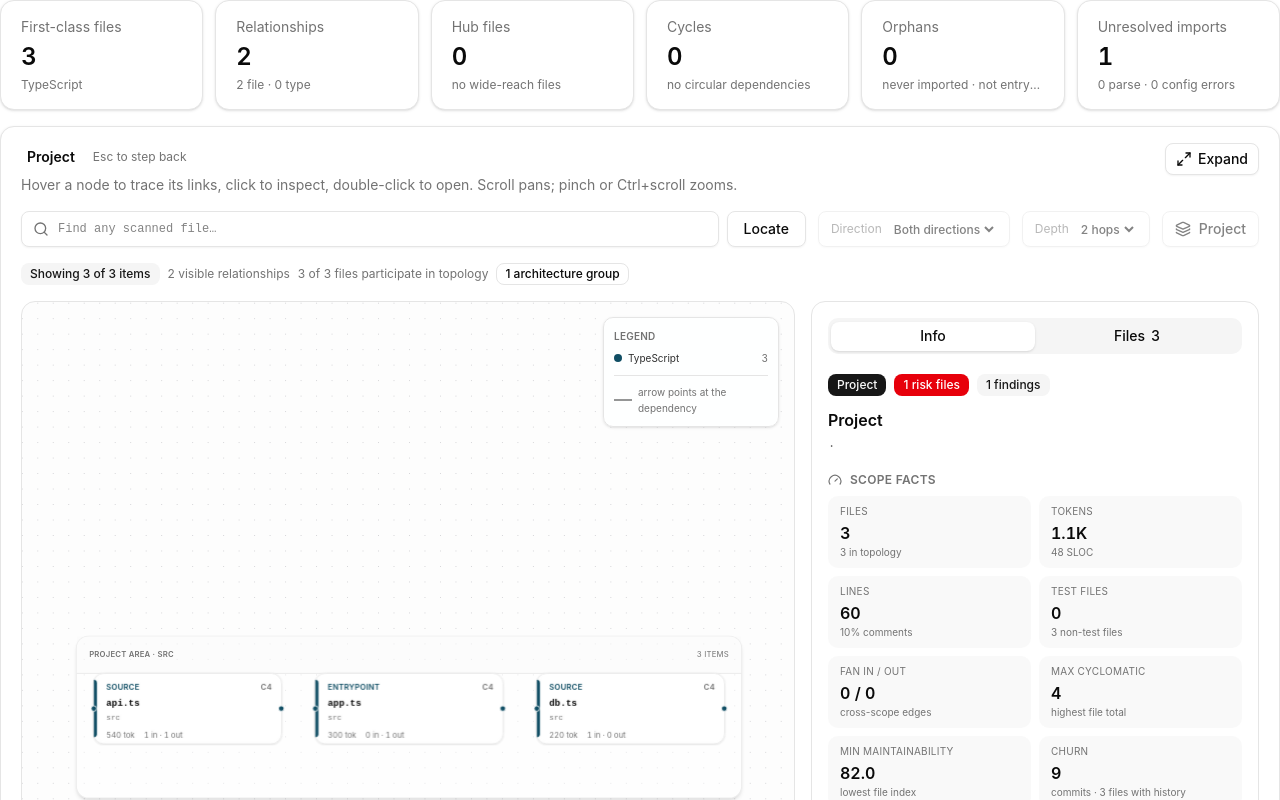
Test: RepositoryGraph › expands inside the app and turns a selected file into an actionable inspection
The image size is (1280, 800).
Type "api" into the dropdown named "Find a file in the repository graph" at (370,229), box [21,211,718,247]
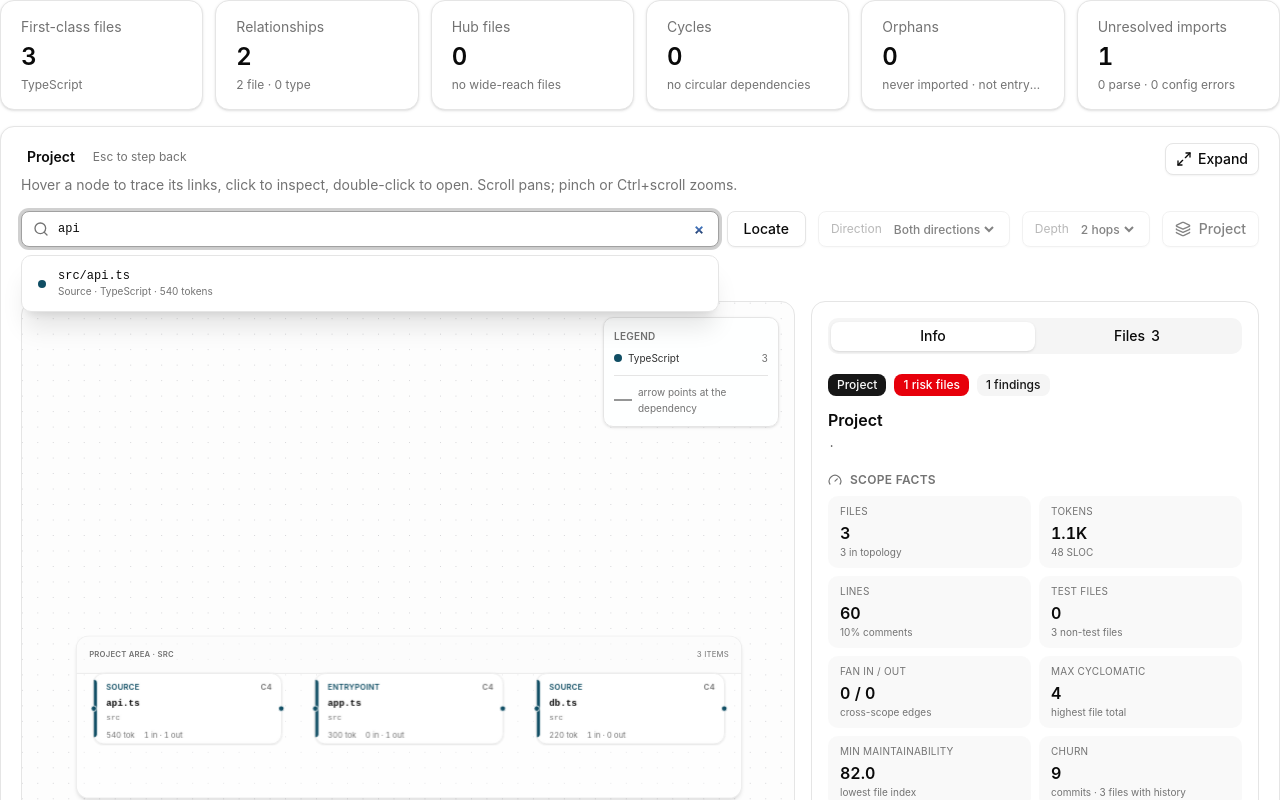
Click the option "src/api.ts Source · TypeScript · 540 tokens" at (94,276), box [26,260,714,307]
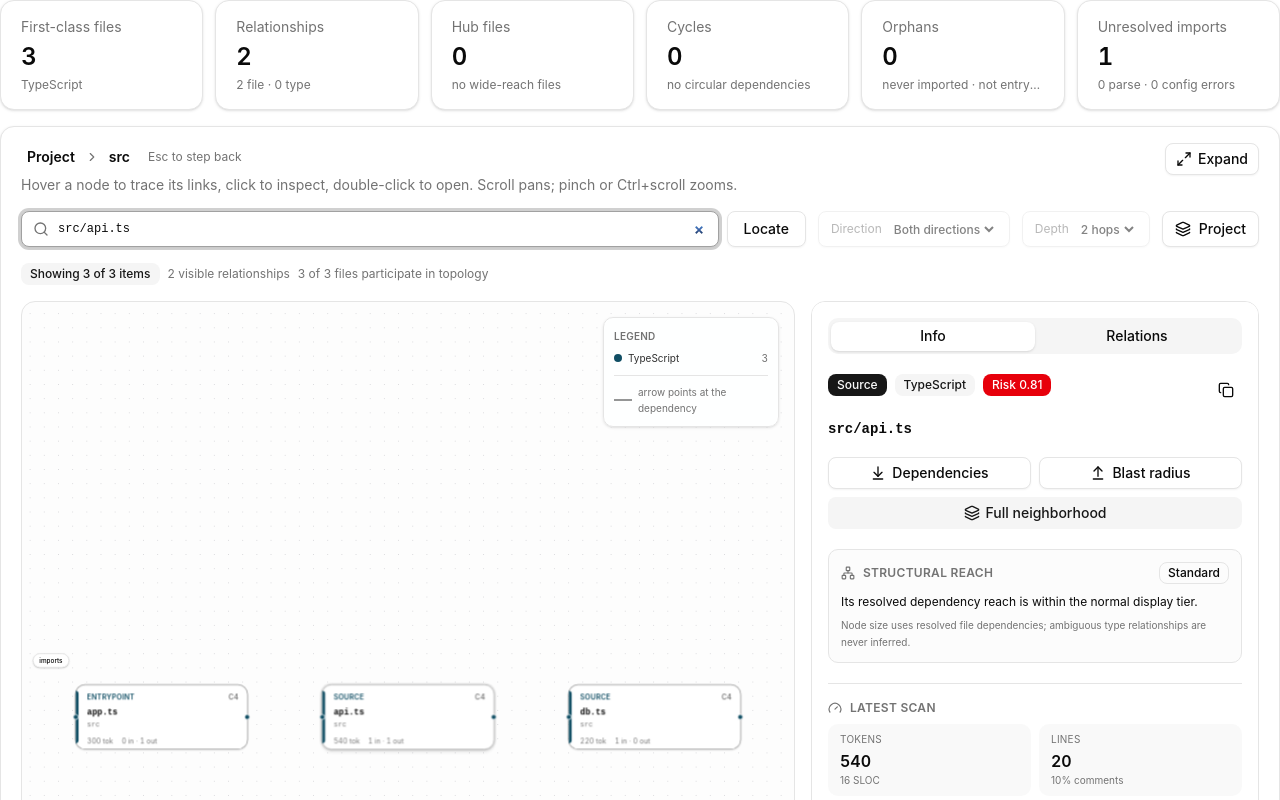
Result: the heading "src/api.ts" is shown at [828,421,912,437]
Result: the heading "Latest scan" is shown at [828,700,936,715]
Result: the text "Risk 0.81" is shown at [983,374,1052,396]
Click the button with aria-label "Expand graph workspace" at (1212,159), box [1165,143,1259,175]
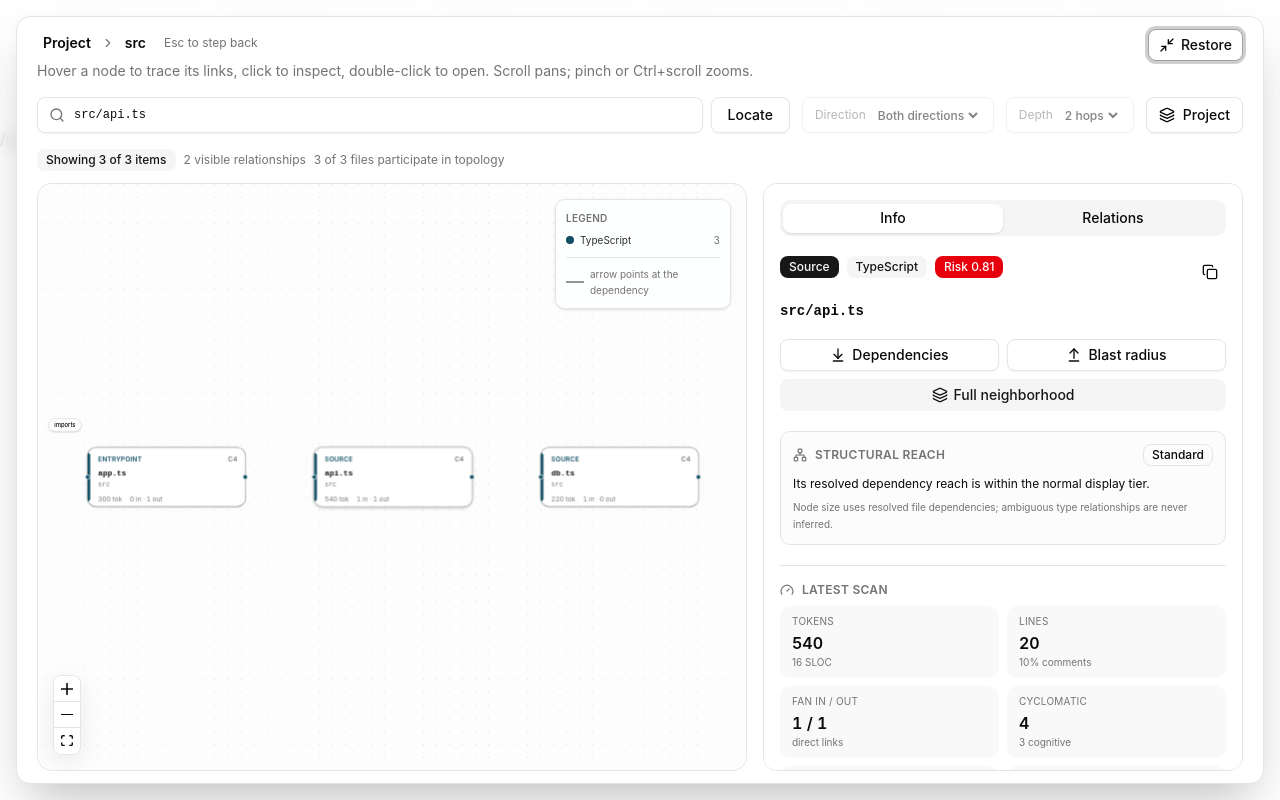
Result: the button with aria-label "Restore graph workspace" is shown at [1148,29,1243,61]
Press Escape
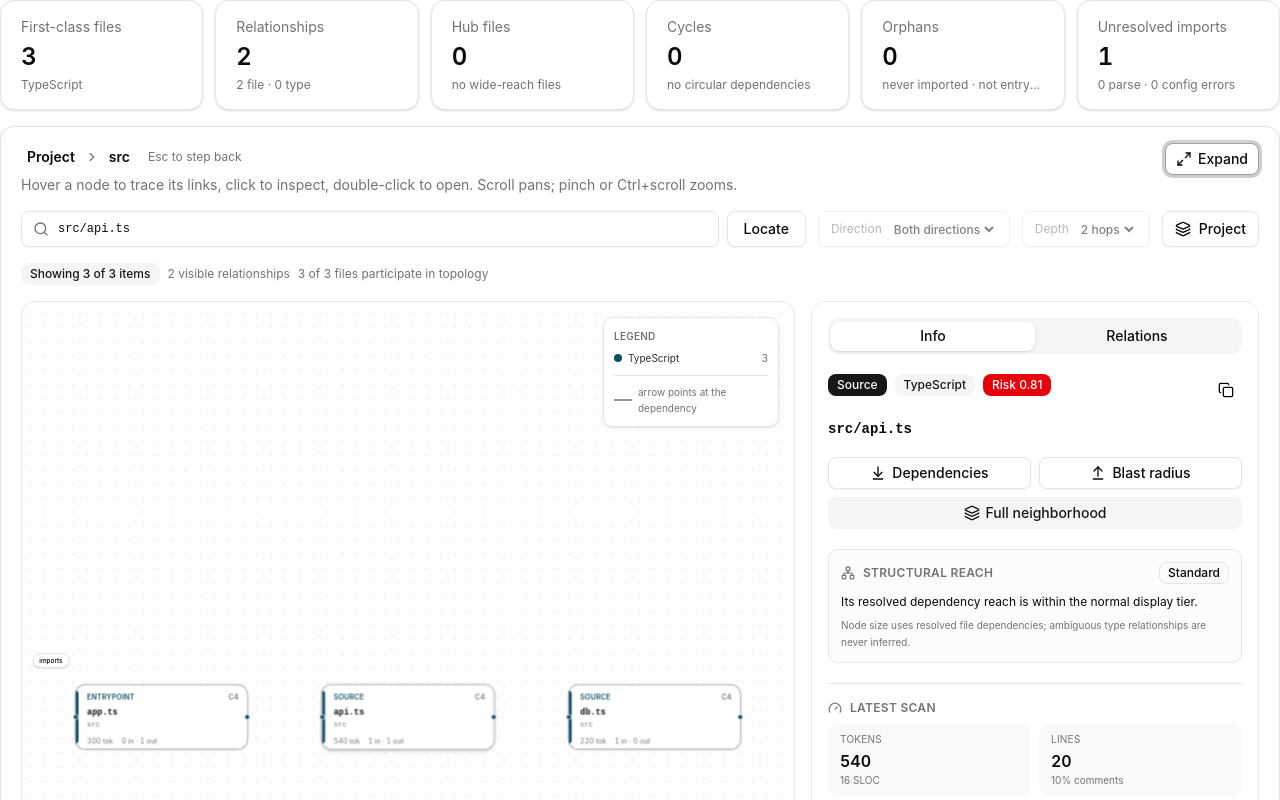
Result: the button with aria-label "Expand graph workspace" is shown at [1165,143,1259,175]
